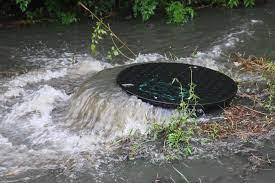drainage_overflow: (0, 45, 239, 139)
